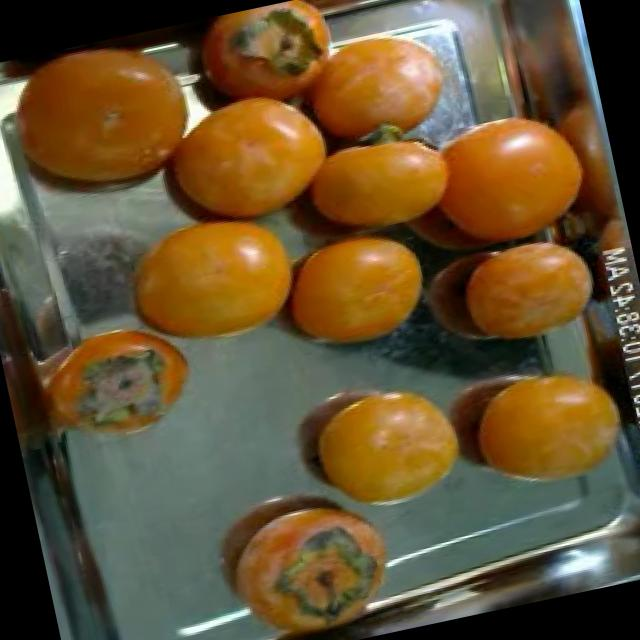Fruit: (0, 23, 230, 230), (117, 56, 360, 246), (93, 186, 328, 378), (265, 345, 485, 539), (257, 213, 457, 379), (12, 304, 212, 466), (446, 344, 640, 510), (439, 227, 619, 366)
